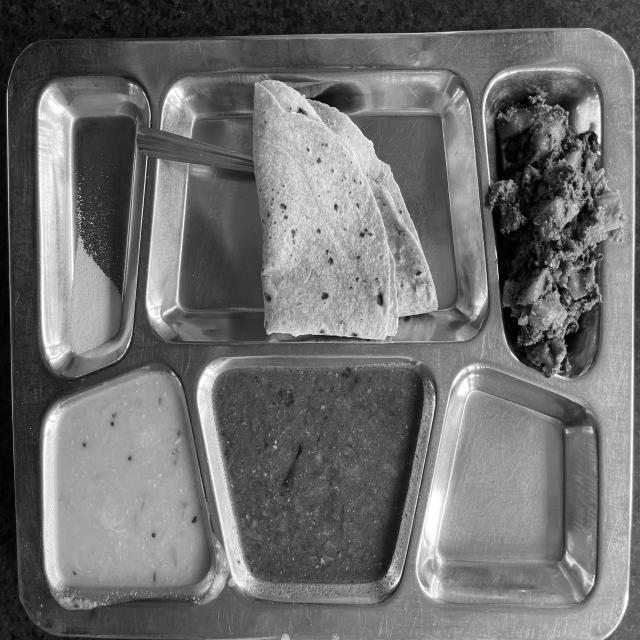70.2- Food Left: (19, 58, 621, 615)
